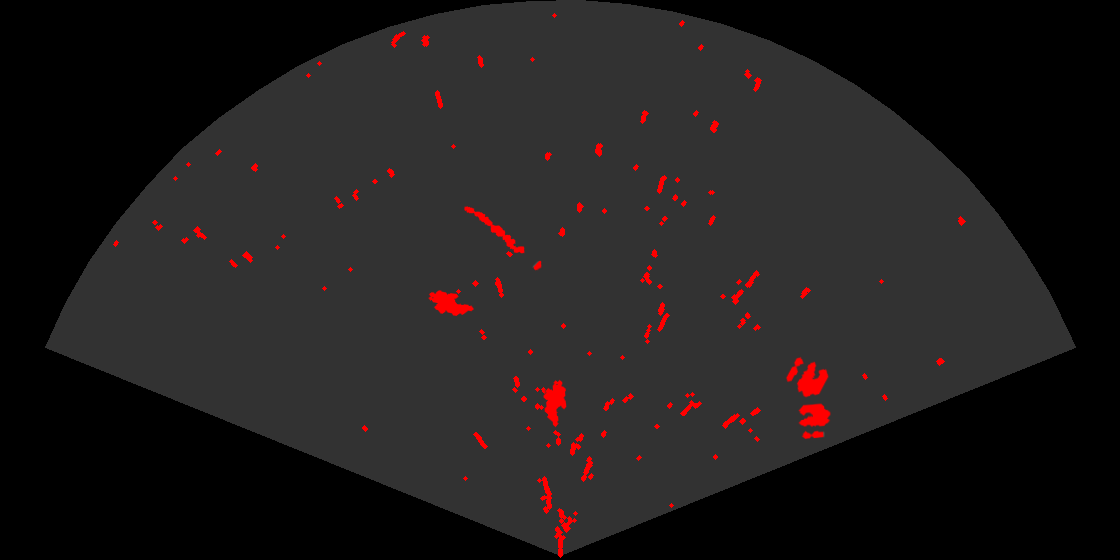AUV: (427, 289, 476, 318), (542, 378, 568, 429)
ball: (784, 355, 830, 399), (797, 402, 832, 441)
chain: (463, 205, 543, 272)
